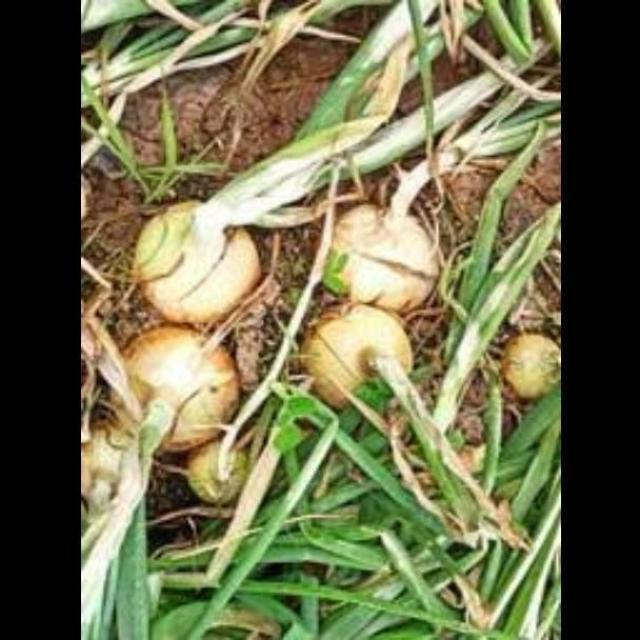onion: (278, 295, 427, 442), (312, 170, 462, 316), (132, 196, 276, 328), (116, 328, 258, 452)
